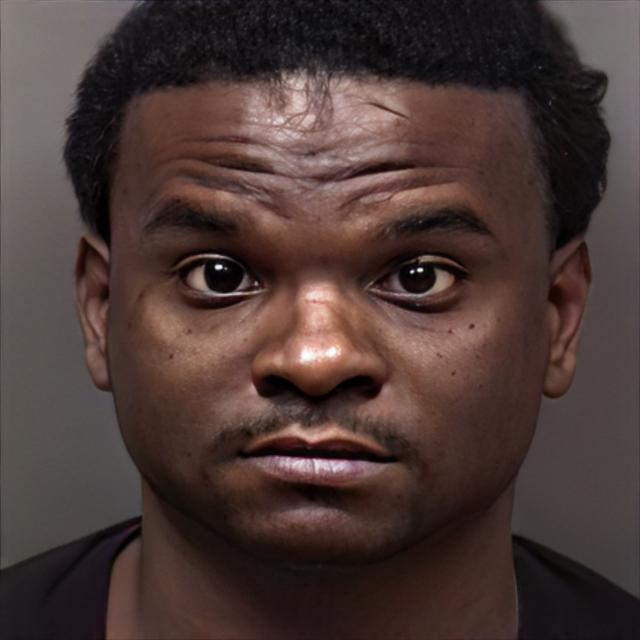surprise: (112, 39, 537, 564)
